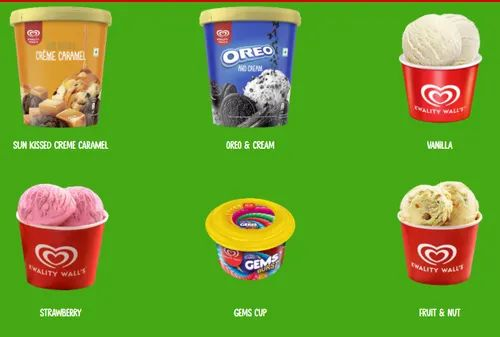Kwality_Walls: (409, 78, 468, 120), (31, 242, 81, 275), (414, 237, 457, 274), (219, 244, 247, 259), (23, 28, 43, 43), (215, 29, 232, 42)
